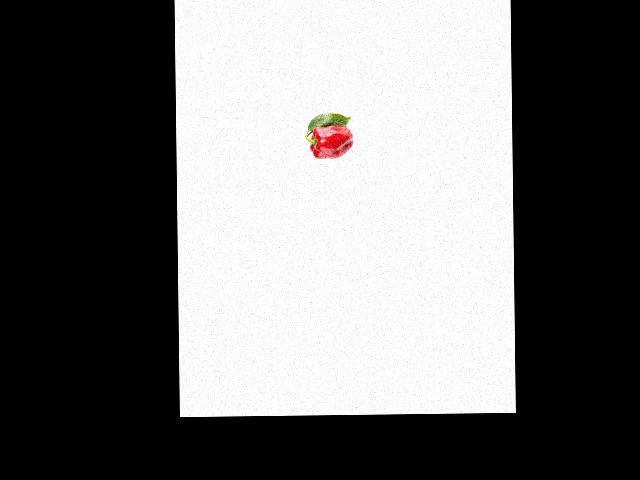bell_pepper: (305, 122, 355, 163)
